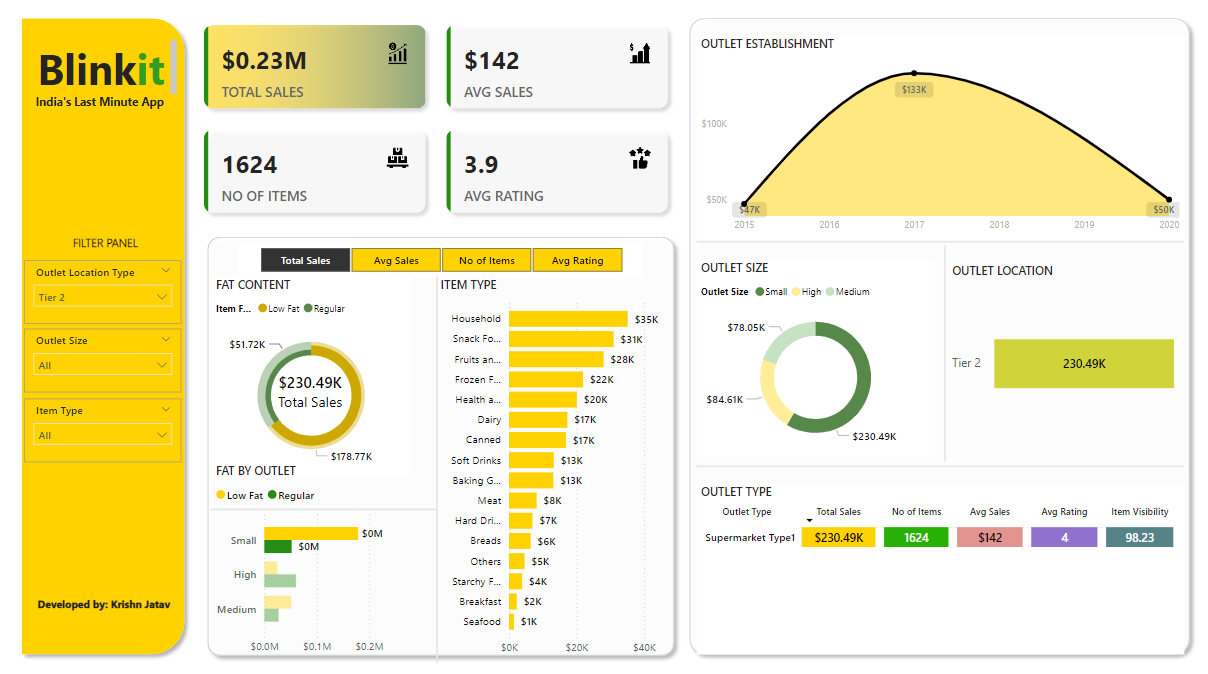

What the dashboard file says about the page in this screenshot:
{"tool":"powerbi","page":{"name":"Page 1","canvas":[1400,800],"ordinal":0},"visuals":[{"type":"shape","box":[24.4,26.4,205.3,750.1],"z":0},{"type":"textbox","box":[38.6,54.9,176.8,73.2],"z":1000},{"type":"textbox","box":[34.6,115.9,176.8,30.5],"z":2000},{"type":"cardVisual","fields":{"Data":["BlinkIT Grocery Data.Total Sales","BlinkIT Grocery Data.Avg Sales","BlinkIT Grocery Data.No of Items","BlinkIT Grocery Data.Avg Rating"]},"box":[225.6,26.4,569.2,250],"z":3000},{"type":"shape","box":[237.8,276.4,554.9,500],"z":4000},{"type":"donutChart","title":"FAT CONTENT","fields":{"Y":["BlinkIT Grocery Data.Total Sales"],"Category":["BlinkIT Grocery Data.Item Fat Content"]},"box":[252.1,331.3,229.7,229.7],"z":5000},{"type":"slicer","fields":{"Values":["Matrics.Matrics"]},"box":[282.5,292.7,465.5,40.7],"z":6000},{"type":"cardVisual","fields":{"Data":["BlinkIT Grocery Data.Total Sales"]},"box":[306.9,424.8,117.9,79.3],"z":7000},{"type":"clusteredBarChart","title":"FAT BY OUTLET","fields":{"Y":["BlinkIT Grocery Data.Total Sales"],"Category":["BlinkIT Grocery Data.Outlet Size"],"Series":["BlinkIT Grocery Data.Item Fat Content"]},"box":[252.1,546.8,219.5,229.7],"z":8000},{"type":"shape","box":[250,593.6,260.2,12.2],"z":9000},{"type":"shape","box":[504.1,331.3,12.2,445.2],"z":10000},{"type":"clusteredBarChart","title":"ITEM TYPE","fields":{"Category":["BlinkIT Grocery Data.Item Type"],"Y":["BlinkIT Grocery Data.Total Sales"]},"box":[510.2,331.3,282.5,445.2],"z":11000},{"type":"shape","box":[792.8,26.4,593.6,750.1],"z":12000},{"type":"lineChart","title":"OUTLET ESTABLISHMENT","fields":{"Y":["BlinkIT Grocery Data.Total Sales"],"Category":["BlinkIT Grocery Data.Outlet Establishment Year"]},"box":[809,54.9,561,235.8],"z":13000},{"type":"shape","box":[809,286.6,561,12.2],"z":14000},{"type":"donutChart","title":"OUTLET SIZE","fields":{"Y":["BlinkIT Grocery Data.Total Sales"],"Category":["BlinkIT Grocery Data.Outlet Size"]},"box":[809,313,274.4,225.6],"z":15000},{"type":"shape","box":[1089.5,296.8,10.2,248],"z":16000},{"type":"funnel","title":"OUTLET LOCATION","fields":{"Y":["Sum(BlinkIT Grocery Data.Sales)"],"Category":["BlinkIT Grocery Data.Outlet Location Type"]},"box":[1099.7,317.1,270.3,213.4],"z":17000},{"type":"shape","box":[809,544.8,561,12.2],"z":18000},{"type":"pivotTable","title":"OUTLET TYPE","fields":{"Rows":["BlinkIT Grocery Data.Outlet Type"],"Values":["BlinkIT Grocery Data.Total Sales","BlinkIT Grocery Data.No of Items","BlinkIT Grocery Data.Avg Sales","BlinkIT Grocery Data.Avg Rating","Sum(BlinkIT Grocery Data.Item Visibility)"]},"box":[809,569.2,561,197.2],"z":19000},{"type":"slicer","fields":{"Values":["BlinkIT Grocery Data.Outlet Location Type"]},"box":[36.6,313,180.9,73.2],"z":20000},{"type":"slicer","fields":{"Values":["BlinkIT Grocery Data.Outlet Size"]},"box":[36.6,392.3,180.9,73.2],"z":21000},{"type":"slicer","fields":{"Values":["BlinkIT Grocery Data.Item Type"]},"box":[36.6,471.6,180.9,73.2],"z":22000},{"type":"textbox","box":[40.7,278.5,176.8,30.5],"z":23000},{"type":"textbox","box":[39.4,695,176.3,29.1],"z":24000}]}

Visuals, with their boxes in screenshot pixels (x1, y1, x2, y2), scaled from the page's 1400x800 canvas onto the 1208x674 screenshot:
shape: 21:22:198:654
textbox: 33:46:186:108
textbox: 30:98:182:123
cardVisual - BlinkIT Grocery Data.Total Sales x BlinkIT Grocery Data.Avg Sales: 195:22:686:233
shape: 205:233:684:654
"FAT CONTENT" donutChart: 218:279:416:473
slicer - Matrics.Matrics: 244:247:645:281
cardVisual - BlinkIT Grocery Data.Total Sales: 265:358:367:425
"FAT BY OUTLET" clusteredBarChart: 218:461:407:654
shape: 216:500:440:510
shape: 435:279:445:654
"ITEM TYPE" clusteredBarChart: 440:279:684:654
shape: 684:22:1196:654
"OUTLET ESTABLISHMENT" lineChart: 698:46:1182:245
shape: 698:241:1182:252
"OUTLET SIZE" donutChart: 698:264:935:454
shape: 940:250:949:459
"OUTLET LOCATION" funnel: 949:267:1182:447
shape: 698:459:1182:469
"OUTLET TYPE" pivotTable: 698:480:1182:646
slicer - BlinkIT Grocery Data.Outlet Location Type: 32:264:188:325
slicer - BlinkIT Grocery Data.Outlet Size: 32:331:188:392
slicer - BlinkIT Grocery Data.Item Type: 32:397:188:459
textbox: 35:235:188:260
textbox: 34:586:186:610
